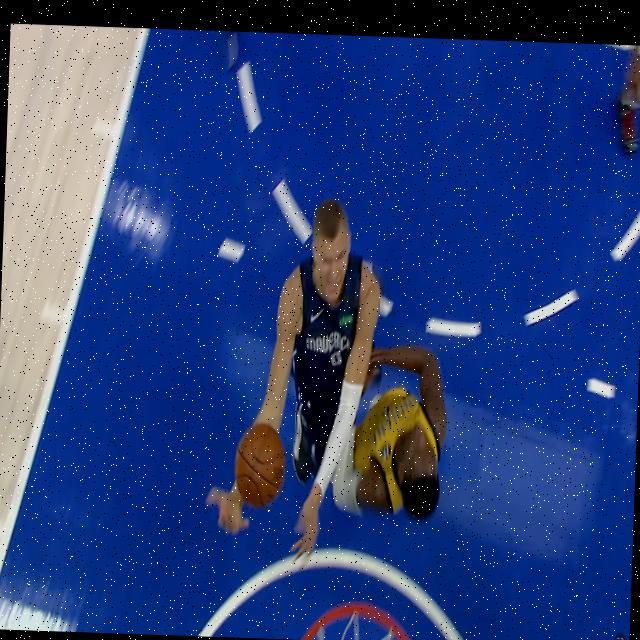foul: (187, 165, 478, 594)
